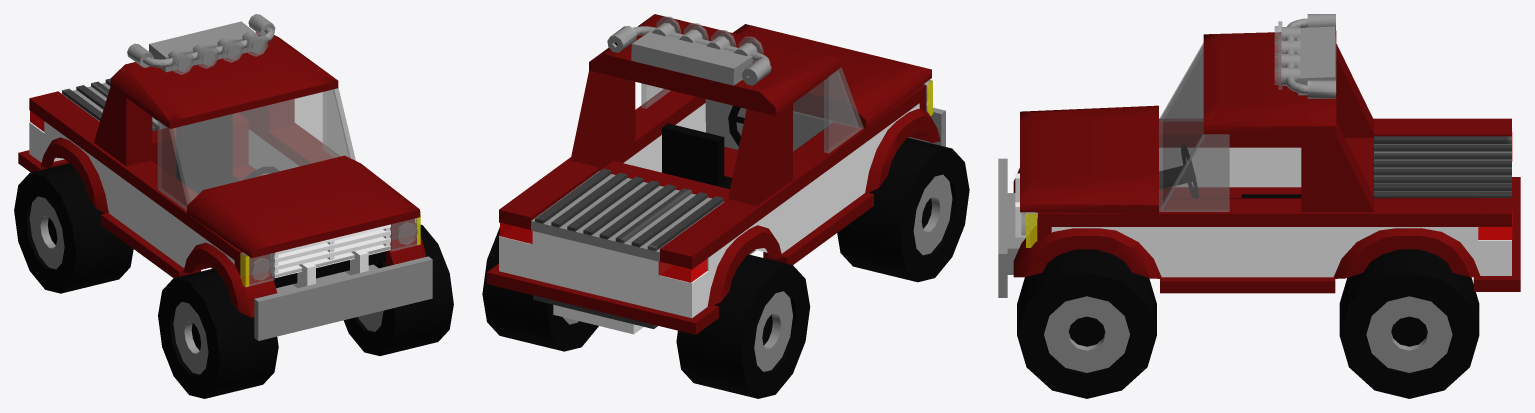
Rendered from Car.FBX.
3 renders of one model, left to right at view 1: azimuth 30°, elevation 25°; view 2: azimuth 150°, elevation 25°; view 3: azimuth 270°, elevation 25°, orthographic. The views are drawn at different scales.
Visible parts, largest first — view 1: suv_chasis, Glass, Wheel_FR, Wheel_RR, Wheel_FL, Lights, Trunk; view 2: suv_chasis, Wheel_RR, Wheel_FR, Trunk, Wheel_RL, Glass, Lights; view 3: suv_chasis, Wheel_RL, Wheel_FL, Trunk, Glass, Lights.
Part boxes in pixels (left/top/right/bottom): suv_chasis: left=18, top=14, right=432, bottom=340; Glass: left=157, top=88, right=355, bottom=210; Wheel_FR: left=158, top=268, right=278, bottom=398; Wheel_RR: left=14, top=163, right=133, bottom=293; Wheel_FL: left=343, top=223, right=453, bottom=355; Lights: left=30, top=32, right=420, bottom=287; Trunk: left=62, top=78, right=166, bottom=130; suv_chasis: left=486, top=14, right=945, bottom=334; Wheel_RR: left=676, top=254, right=810, bottom=398; Wheel_FR: left=837, top=138, right=969, bottom=282; Trunk: left=531, top=168, right=724, bottom=261; Wheel_RL: left=482, top=227, right=598, bottom=351; Glass: left=641, top=67, right=863, bottom=153; Lights: left=500, top=16, right=932, bottom=282; suv_chasis: left=998, top=14, right=1520, bottom=297; Wheel_RL: left=1339, top=249, right=1479, bottom=398; Wheel_FL: left=1017, top=249, right=1156, bottom=398; Trunk: left=1374, top=136, right=1511, bottom=197; Glass: left=1159, top=43, right=1229, bottom=211; Lights: left=1021, top=21, right=1512, bottom=247.
Size of the model in its own units: 20.8 by 22.22 by 35.93.
